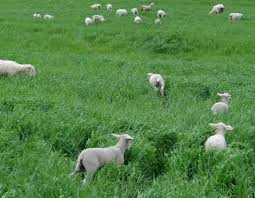sheep: (75, 132, 136, 184), (146, 68, 170, 104), (208, 126, 233, 160), (1, 58, 39, 79), (214, 92, 236, 122), (206, 2, 226, 20), (227, 11, 247, 24), (33, 10, 48, 26), (111, 4, 128, 18), (42, 11, 57, 25), (80, 14, 94, 29), (139, 1, 154, 14), (88, 1, 103, 13), (131, 13, 143, 28), (153, 6, 167, 18), (90, 12, 103, 24), (152, 17, 166, 28), (102, 1, 115, 11), (127, 5, 137, 18)
